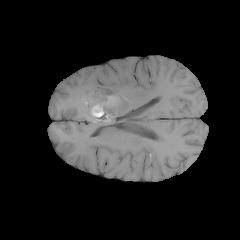glioma: (76, 75, 130, 121)
